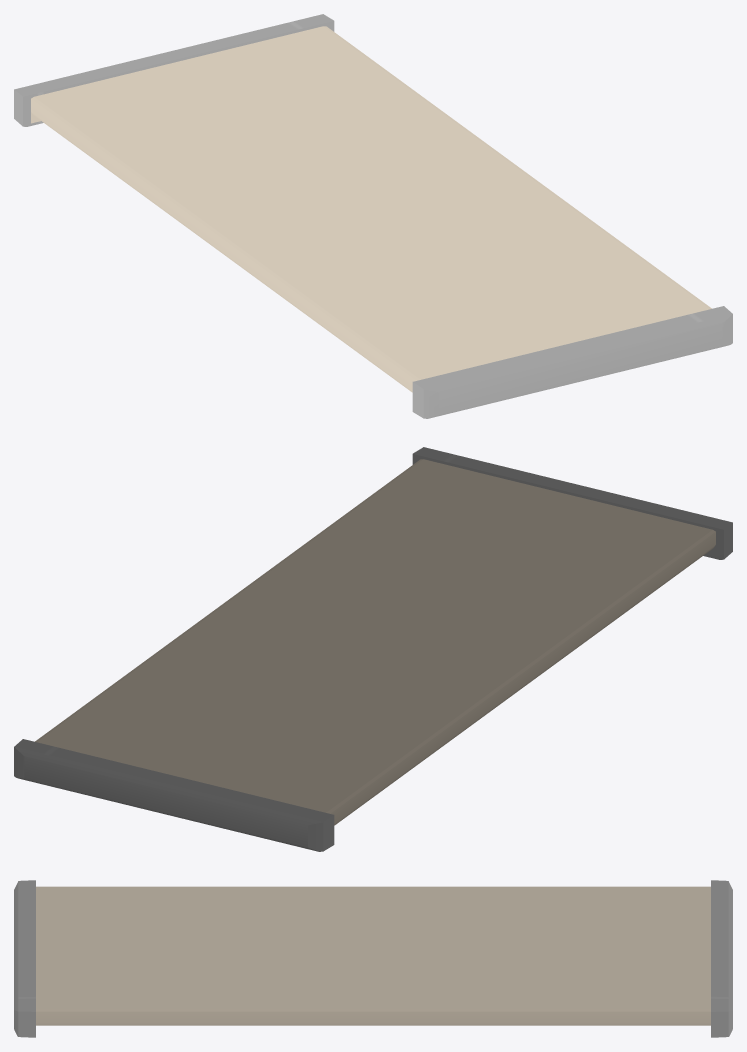
File: FP421:LightFixture55_f7a21391.obj
The picture shows the model from 3 angles, top to bottom: view 1: azimuth 30°, elevation 25°; view 2: azimuth 150°, elevation 25°; view 3: azimuth 270°, elevation 25°; orthographic projection. The views are drawn at different scales.
Visible parts, largest first — view 1: FP421:LightFixture5_5_f7a21391; view 2: FP421:LightFixture5_5_f7a21391; view 3: FP421:LightFixture5_5_f7a21391.
Boxes of the visible parts, x1,y1,x2,y2 form: FP421:LightFixture5_5_f7a21391: (14,14,732,418); FP421:LightFixture5_5_f7a21391: (14,447,732,851); FP421:LightFixture5_5_f7a21391: (14,880,732,1037).
Bounding box in the file's own units: 0.3867 × 0.0371 × 0.8924.
